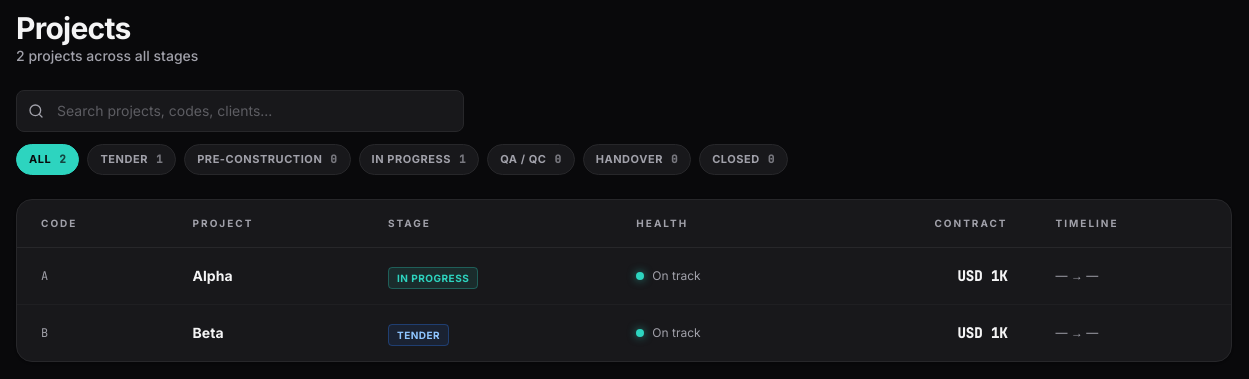
Test case: ProjectsPage › filters by stage when a stage pill is clicked
# Click the "Tender" stage pill (the one in the filter row, not the table cell).
Click the button "Tender1" at {"x": 132, "y": 159}, box top-left (88, 144), bottom-right (176, 174)
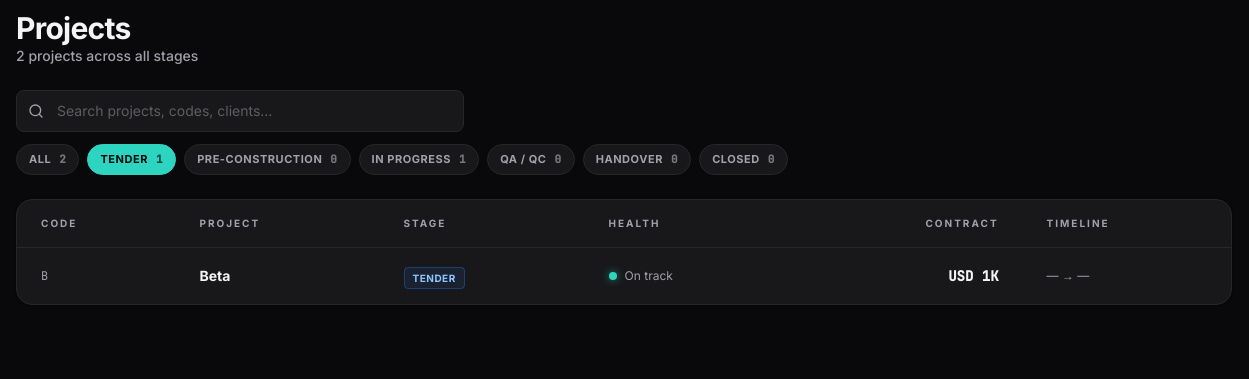
Check: no links "Alpha" are shown
